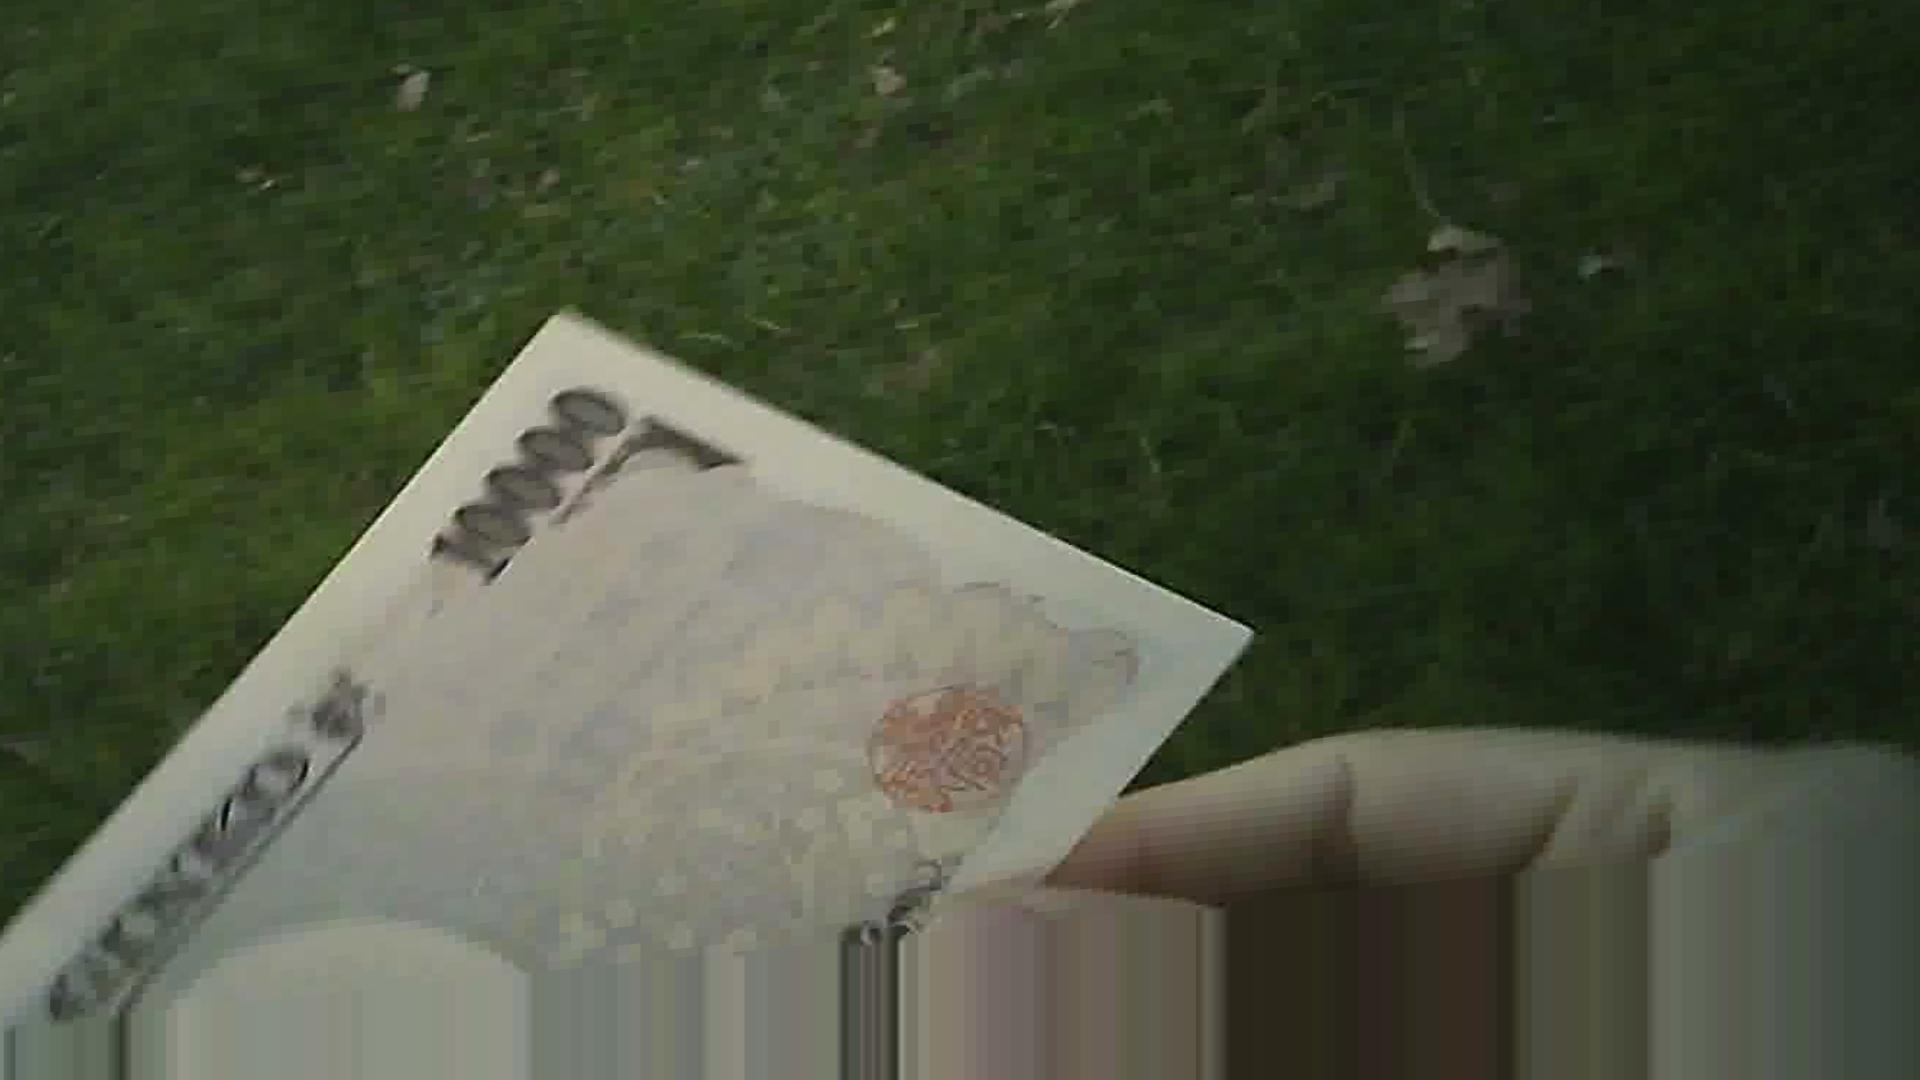10,000 Yen: (59, 273, 1191, 927)
